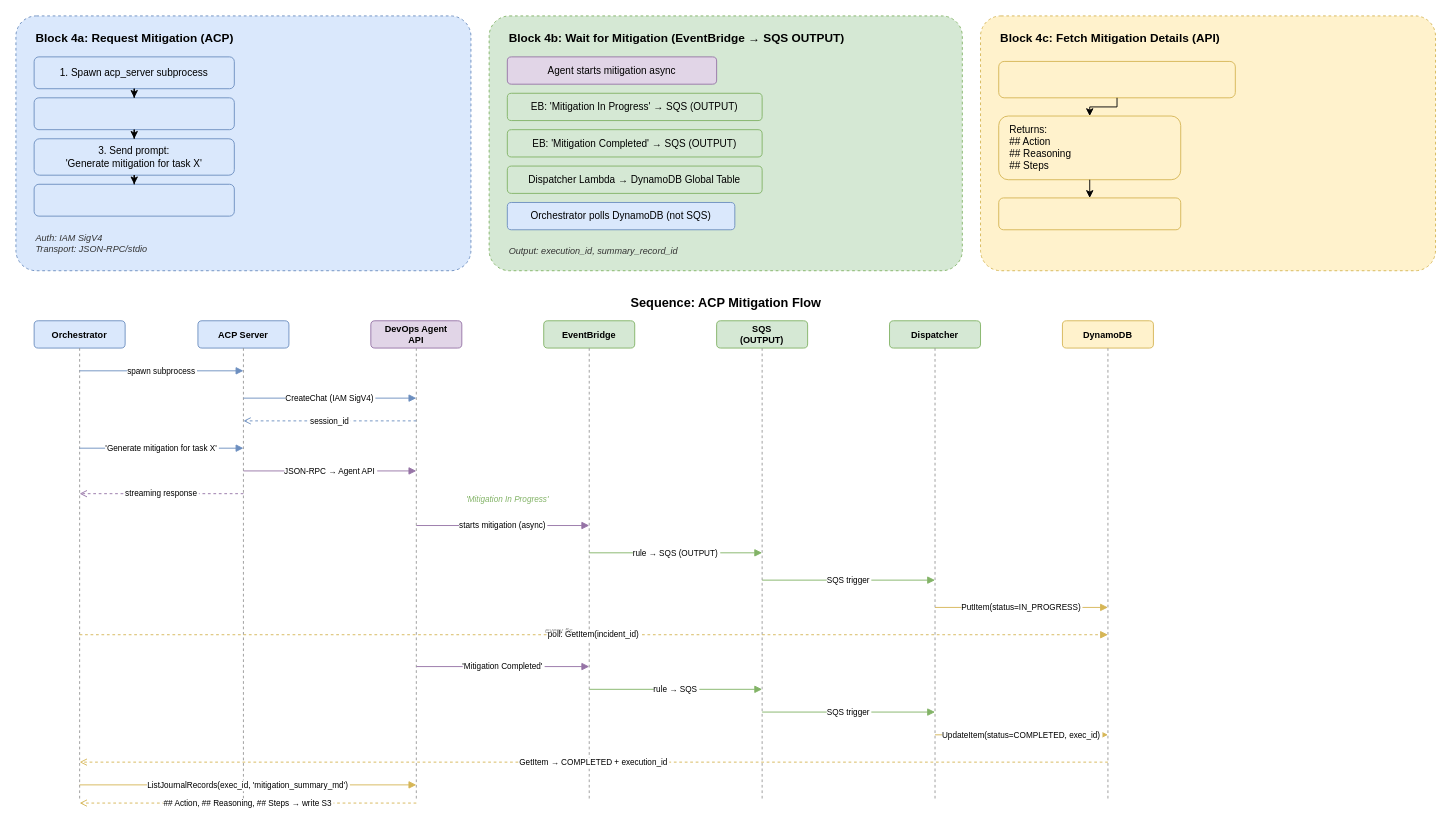
Image size: 1451x826. Some labels were removed from this diagram. Here are the shapes that lost their labels. From the top down, the centre of each, then its label:
At pixel 1116 79: "ListJournalRecords(executionId, 'mitigation_summary_md')".
At pixel 133 113: "2. Initialize session (CreateChat API)".
At pixel 133 199: "4. Receive streaming response".
At pixel 1089 213: "Write to S3 result JSON".
